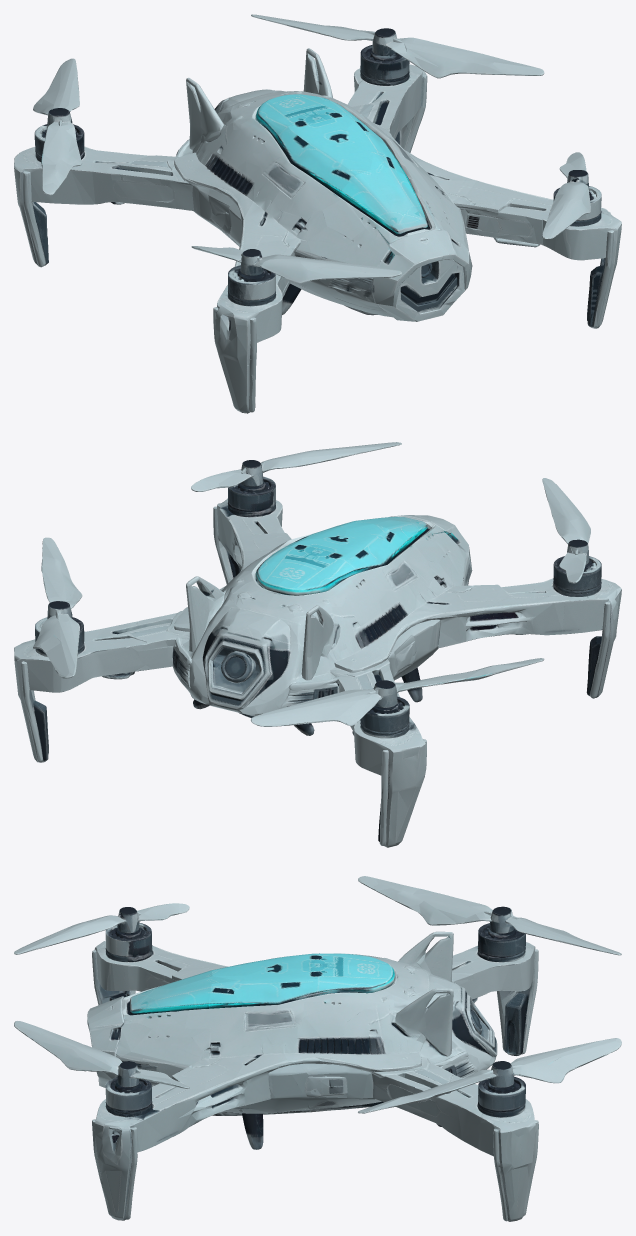
The model's file is phase_interceptor_2.glb.
3 renders of one model, top to bottom at view 1: azimuth 30°, elevation 25°; view 2: azimuth 150°, elevation 25°; view 3: azimuth 270°, elevation 25°, orthographic. The views are drawn at different scales.
Size of the model in its own units: 1.31 by 0.4572 by 1.43.
Materials: 1 (1 with a texture image).
